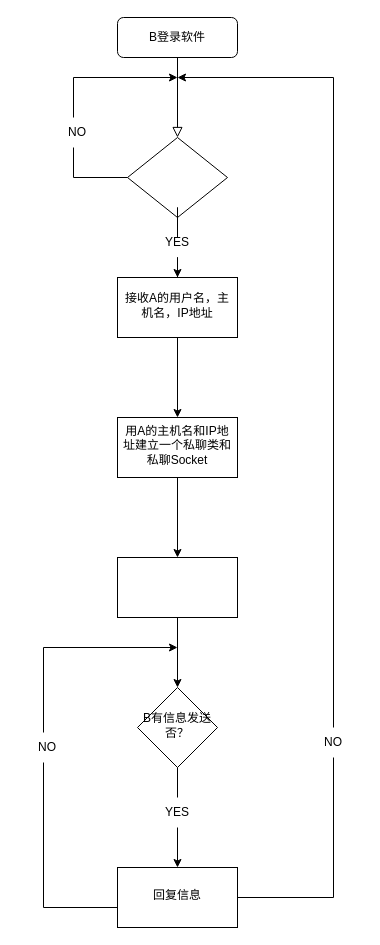
The diagram is 380 pixels wide and 945 high, and some of its shapes have lost their labels. The shapes that lost their labels are listed below. From the top down, each one's centre as x and y in pixels, then its label:
At (177,177): "收到A的Xchat消息否？".
At (177,587): "在窗口中显示A发送的聊天内容".
